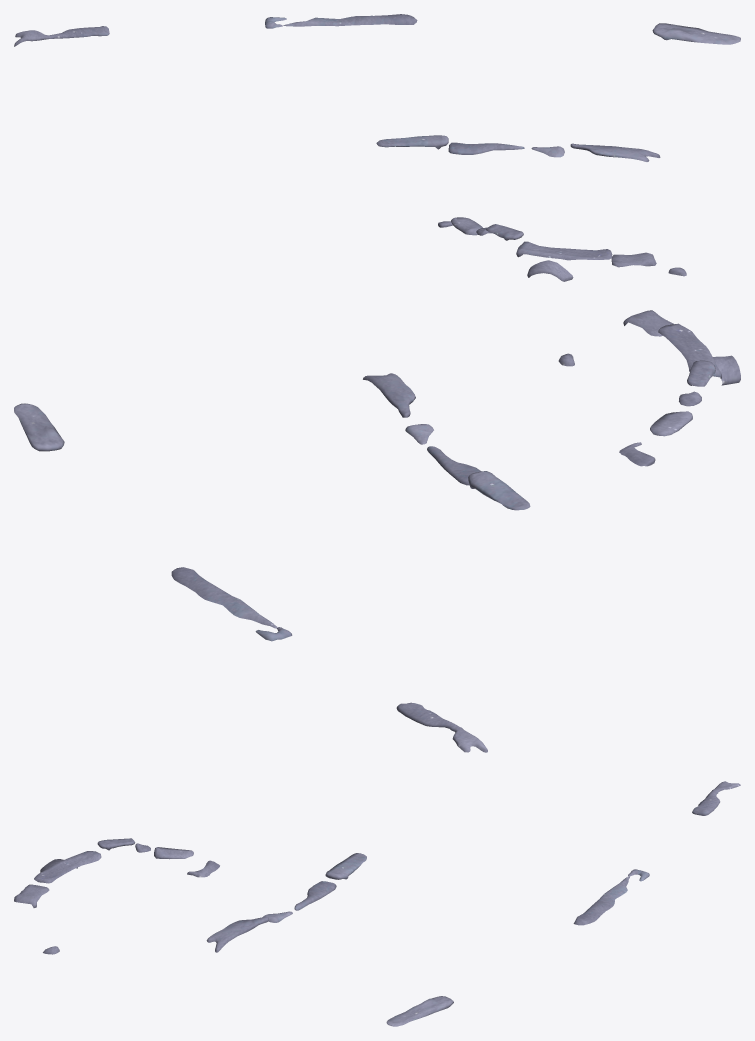
Rendered from pref_sm_beach_winter_snow10_lv2.fbx.
The picture shows the model from 3 angles, top to bottom: view 1: azimuth 30°, elevation 25°; view 2: azimuth 150°, elevation 25°; view 3: azimuth 270°, elevation 25°; orthographic projection. The views are drawn at different scales.
Parts seen in each view (by area): view 1: pref_sm_beach_winter_snow10_lv2; view 2: pref_sm_beach_winter_snow10_lv2; view 3: pref_sm_beach_winter_snow10_lv2.
Boxes of the visible parts, box(x1,y1,x2,y2) form: pref_sm_beach_winter_snow10_lv2: box(14, 14, 740, 281); pref_sm_beach_winter_snow10_lv2: box(14, 310, 740, 752); pref_sm_beach_winter_snow10_lv2: box(14, 781, 740, 1026).
Bounding box in the file's own units: 25.43 × 2.3 × 31.51.
